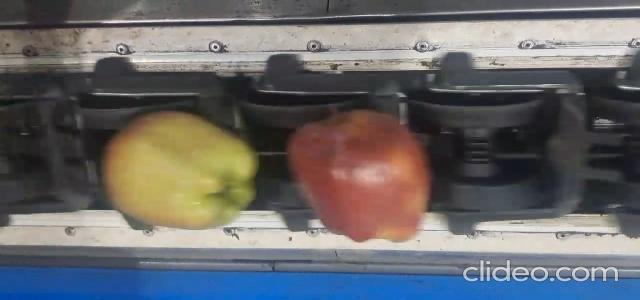apple: (289, 109, 430, 242), (102, 111, 258, 229)
